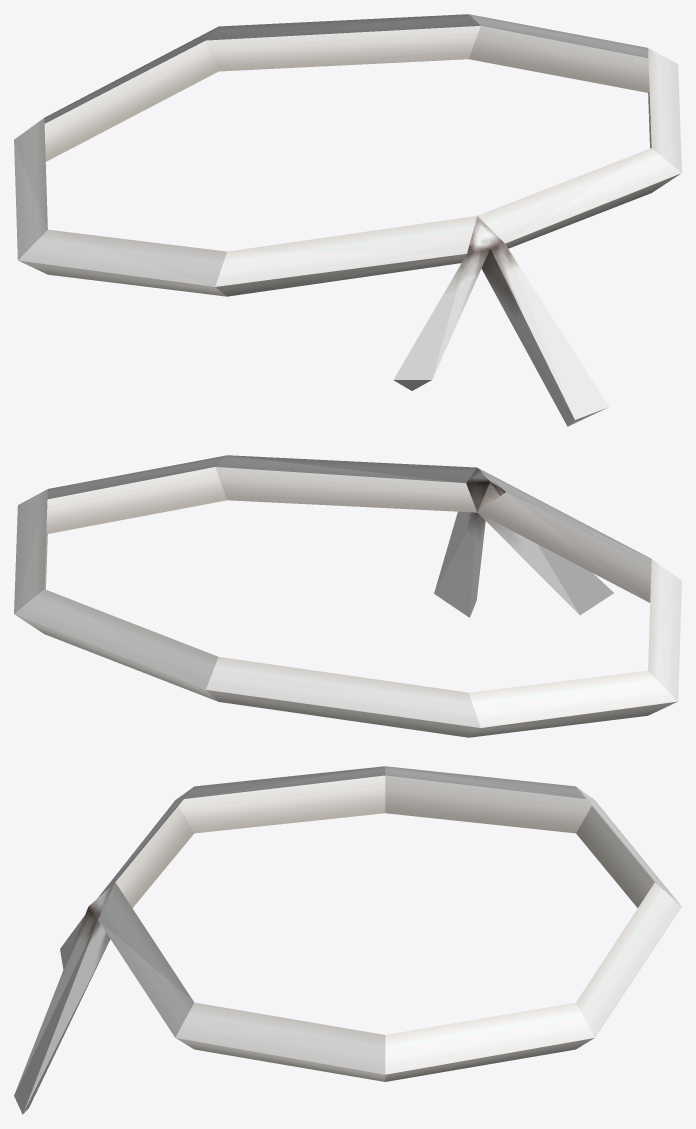
File: Panda_holyThread.obj
3 renders of one model, top to bottom at view 1: azimuth 30°, elevation 25°; view 2: azimuth 150°, elevation 25°; view 3: azimuth 270°, elevation 25°, orthographic. The views are drawn at different scales.
Parts seen in each view (by area): view 1: Panda_holyThread_tri; view 2: Panda_holyThread_tri; view 3: Panda_holyThread_tri.
Boxes of the visible parts, <box> form: Panda_holyThread_tri: <box>14,14,681,426</box>; Panda_holyThread_tri: <box>14,455,681,737</box>; Panda_holyThread_tri: <box>14,766,681,1114</box>.
Bounding box in the file's own units: 0.0587 × 0.0164 × 0.0493.
1 material, 1 textured.
